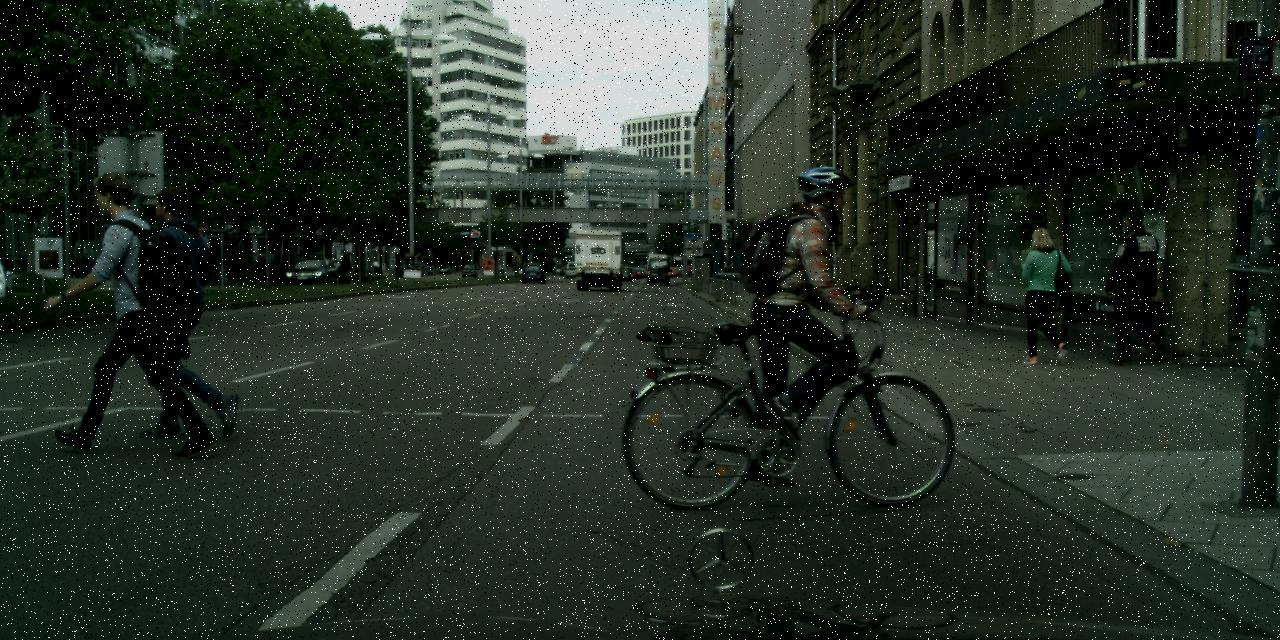ped: (741, 165, 860, 456), (66, 171, 181, 450), (135, 186, 234, 430), (1108, 207, 1170, 359), (1016, 227, 1071, 361), (214, 262, 223, 286)
